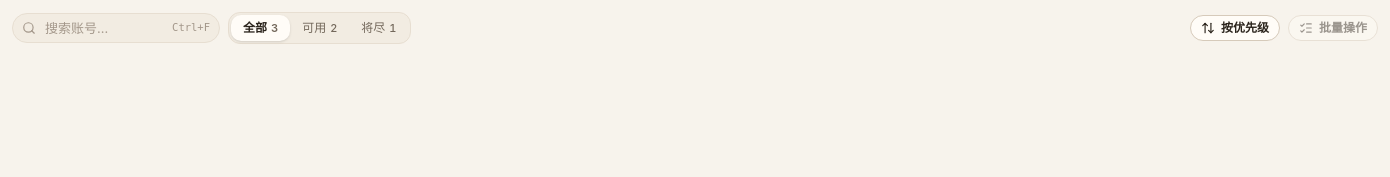
Test: changes sort order from the dropdown
Click the button with aria-label "排序": (1235, 28) [1190, 15, 1280, 41]
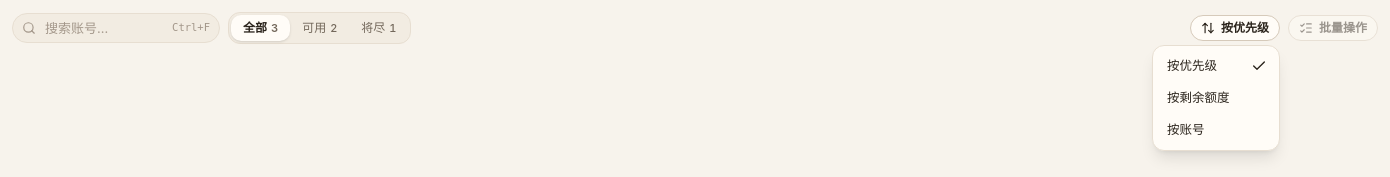
Click the menu item "按账号": (1186, 129) [1167, 122, 1204, 137]
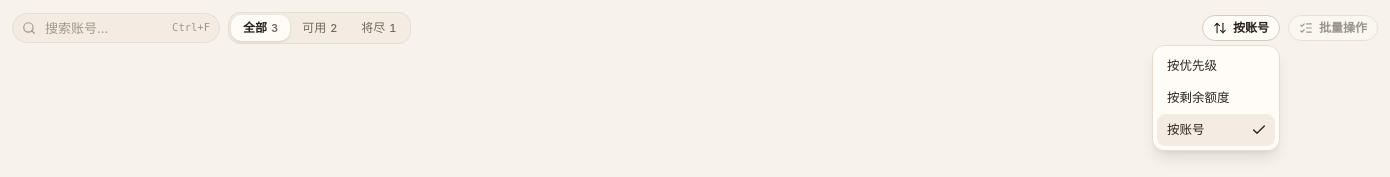
Check: the button with aria-label "排序：按账号" is shown, box [1202, 15, 1280, 41]
